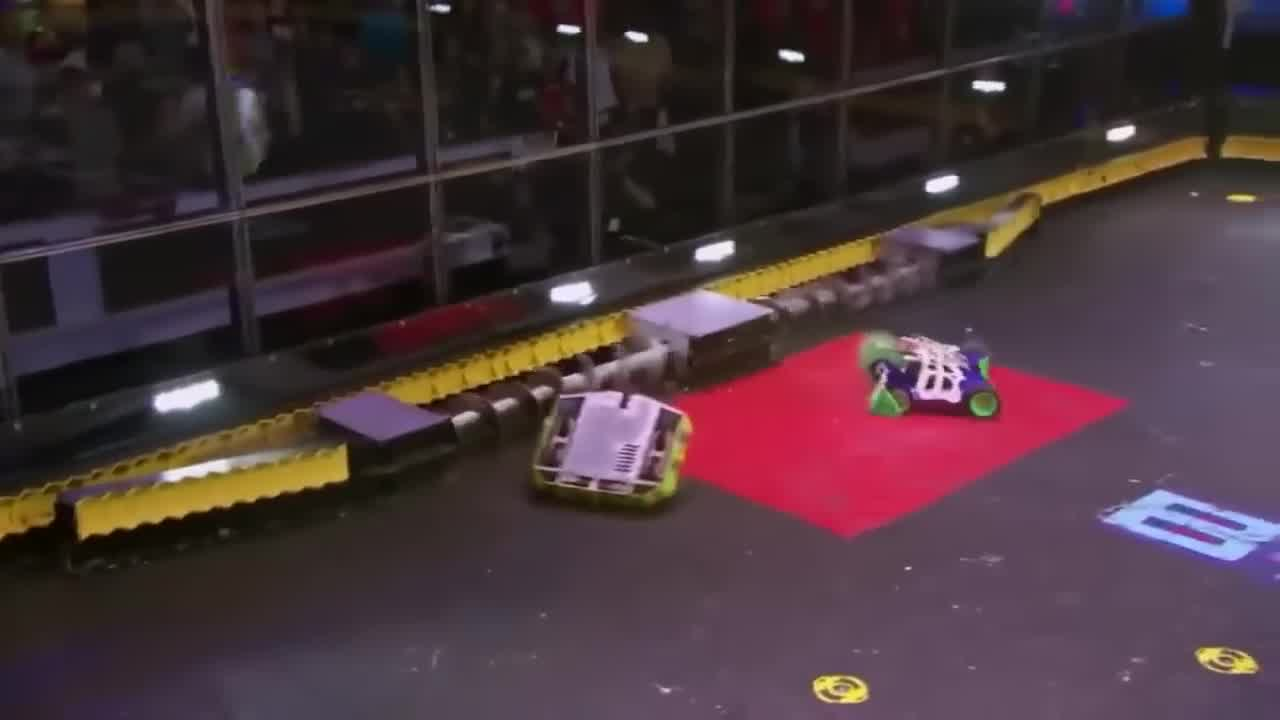combatbot: (526, 383, 694, 515), (859, 330, 1001, 421)
